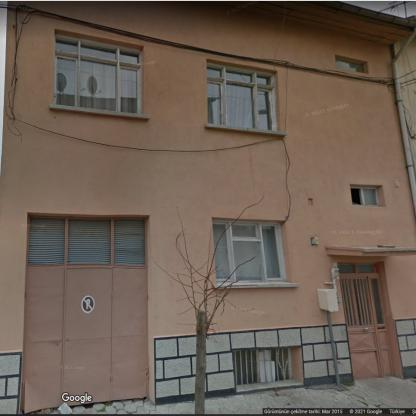door: (23, 268, 147, 411), (341, 275, 393, 379)
window: (56, 36, 139, 114), (27, 216, 147, 265), (213, 220, 287, 284), (207, 62, 276, 129), (233, 351, 257, 386), (273, 347, 293, 382), (351, 187, 380, 205), (338, 264, 378, 274), (337, 58, 365, 72)
